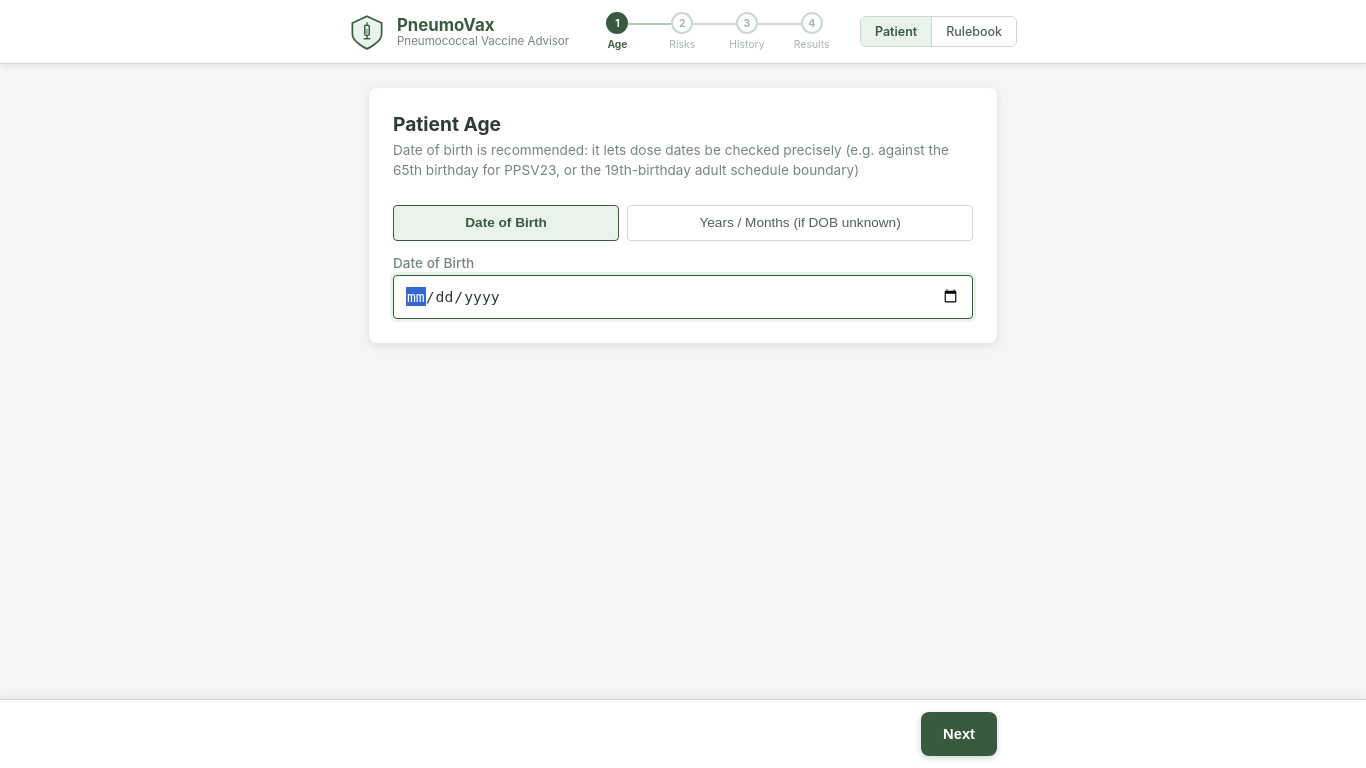
Test case: App wizard › errors if Next clicked with no age
Click the button "Next". click: (959, 734)
box: left=921, top=712, right=997, bottom=756
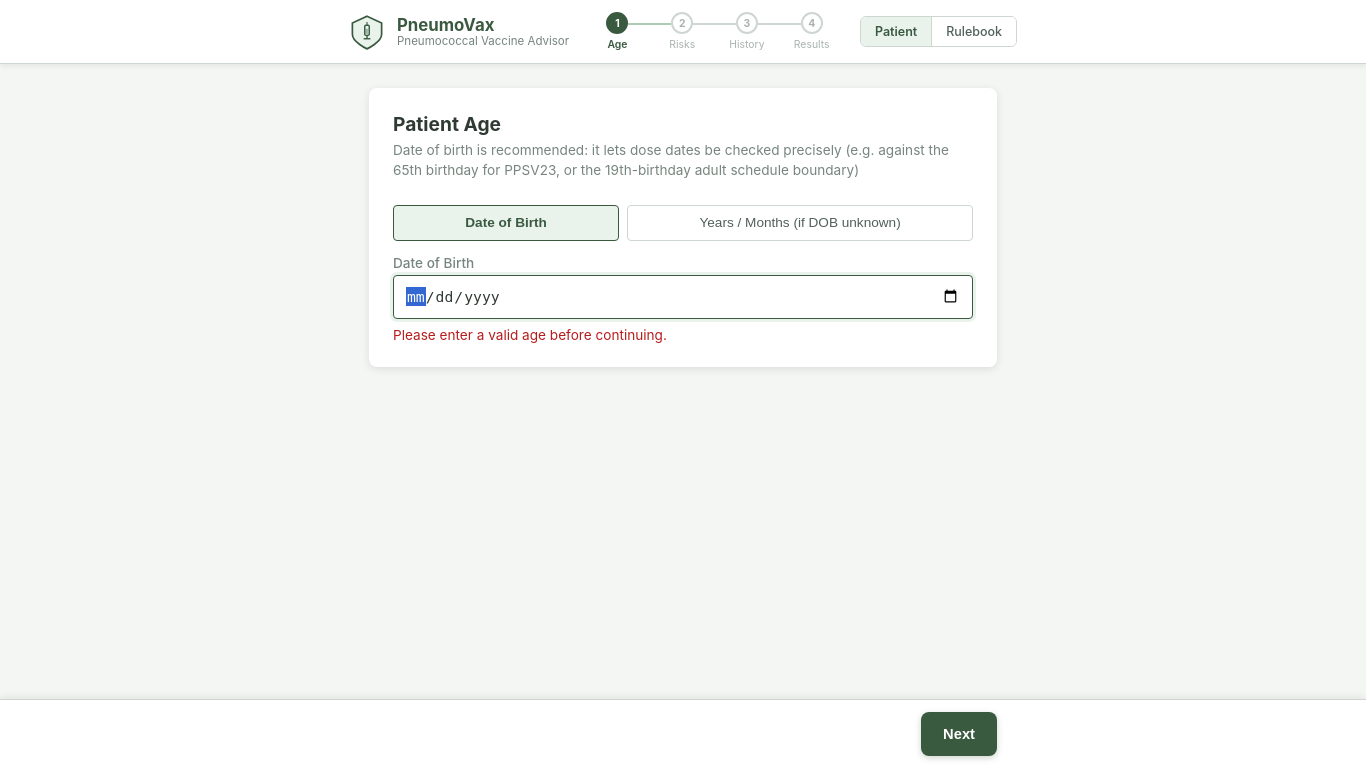
Expected: the text "Please enter a valid age before continuing." is shown, left=393, top=327, right=667, bottom=343
